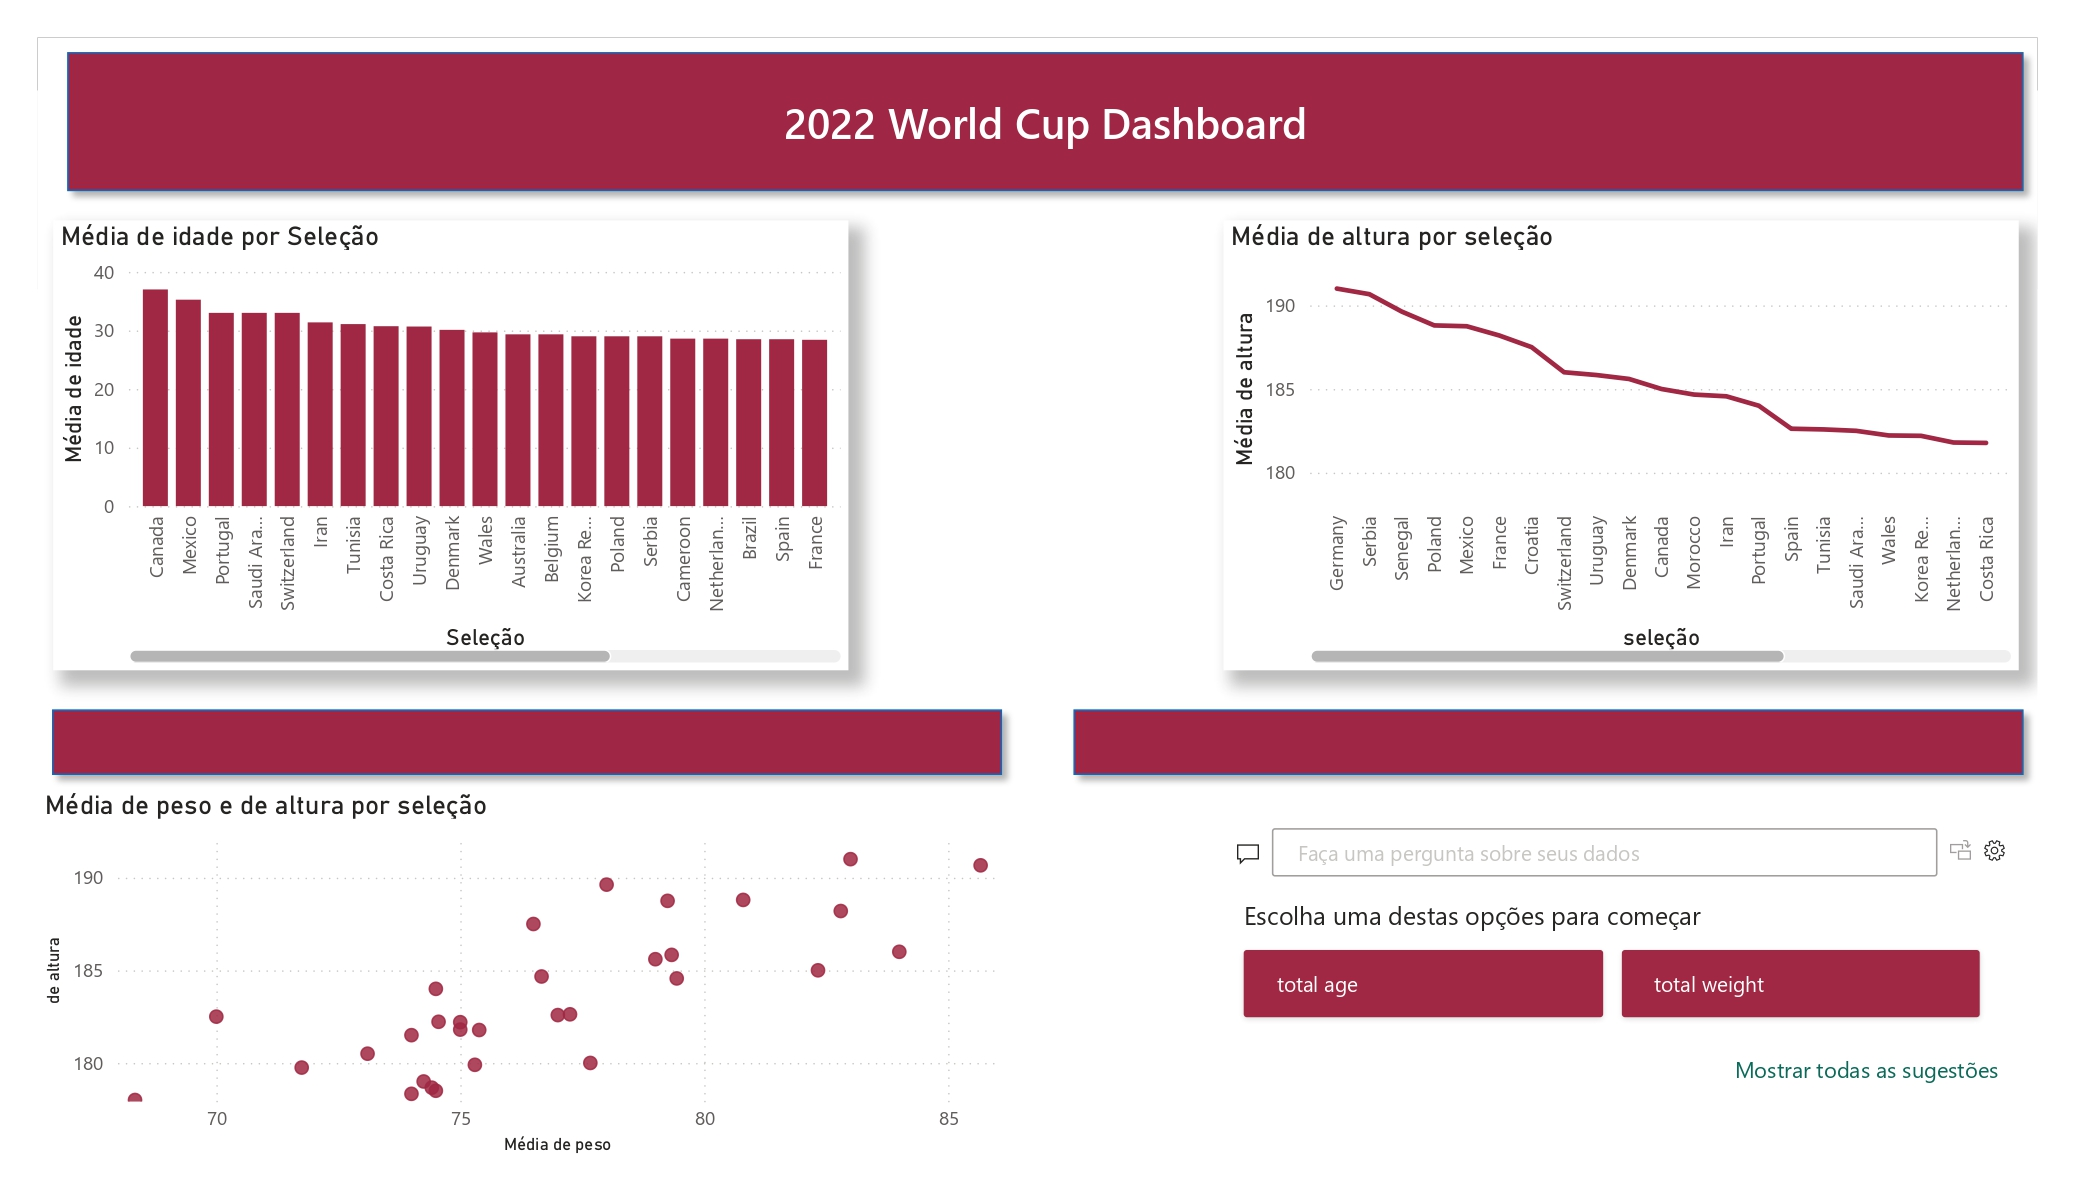

What the dashboard file says about the page in this screenshot:
{"tool":"powerbi","page":{"name":"Página 1","canvas":[1280,720],"ordinal":0},"visuals":[{"type":"shape","box":[9.7,0,1270.3,107],"z":0},{"type":"clusteredColumnChart","fields":{"Y":["Avg(players_wc2.age)"],"Category":["players_wc2.nationality"]},"box":[9.7,116.7,509.7,287.9],"z":1000},{"type":"shape","box":[0,421.2,626.4,60.3],"z":2001},{"type":"shape","box":[653.6,421.2,626.4,60.3],"z":2002},{"type":"lineChart","fields":{"Category":["players_wc2.nationality"],"Y":["Avg(players_wc2.height)"]},"box":[758.7,116.7,509.7,287.9],"z":2003},{"type":"qnaVisual","box":[758.7,481.5,509.7,238.3],"z":2005},{"type":"scatterChart","fields":{"X":["Avg(players_wc2.weight)"],"Category":["players_wc2.nationality"],"Y":["Avg(players_wc2.height)"]},"box":[0,481,626,238],"z":2006}]}

Visuals, with their boxes in screenshot pixels (x1, y1, x2, y2):
shape: BBox(53, 38, 2038, 205)
clusteredColumnChart - Avg(players_wc2.age) x players_wc2.nationality: BBox(53, 220, 849, 670)
shape: BBox(38, 696, 1016, 790)
shape: BBox(1059, 696, 2038, 790)
lineChart - players_wc2.nationality x Avg(players_wc2.height): BBox(1223, 220, 2019, 670)
qnaVisual: BBox(1223, 790, 2019, 1162)
scatterChart - Avg(players_wc2.weight) x players_wc2.nationality: BBox(38, 789, 1016, 1161)
